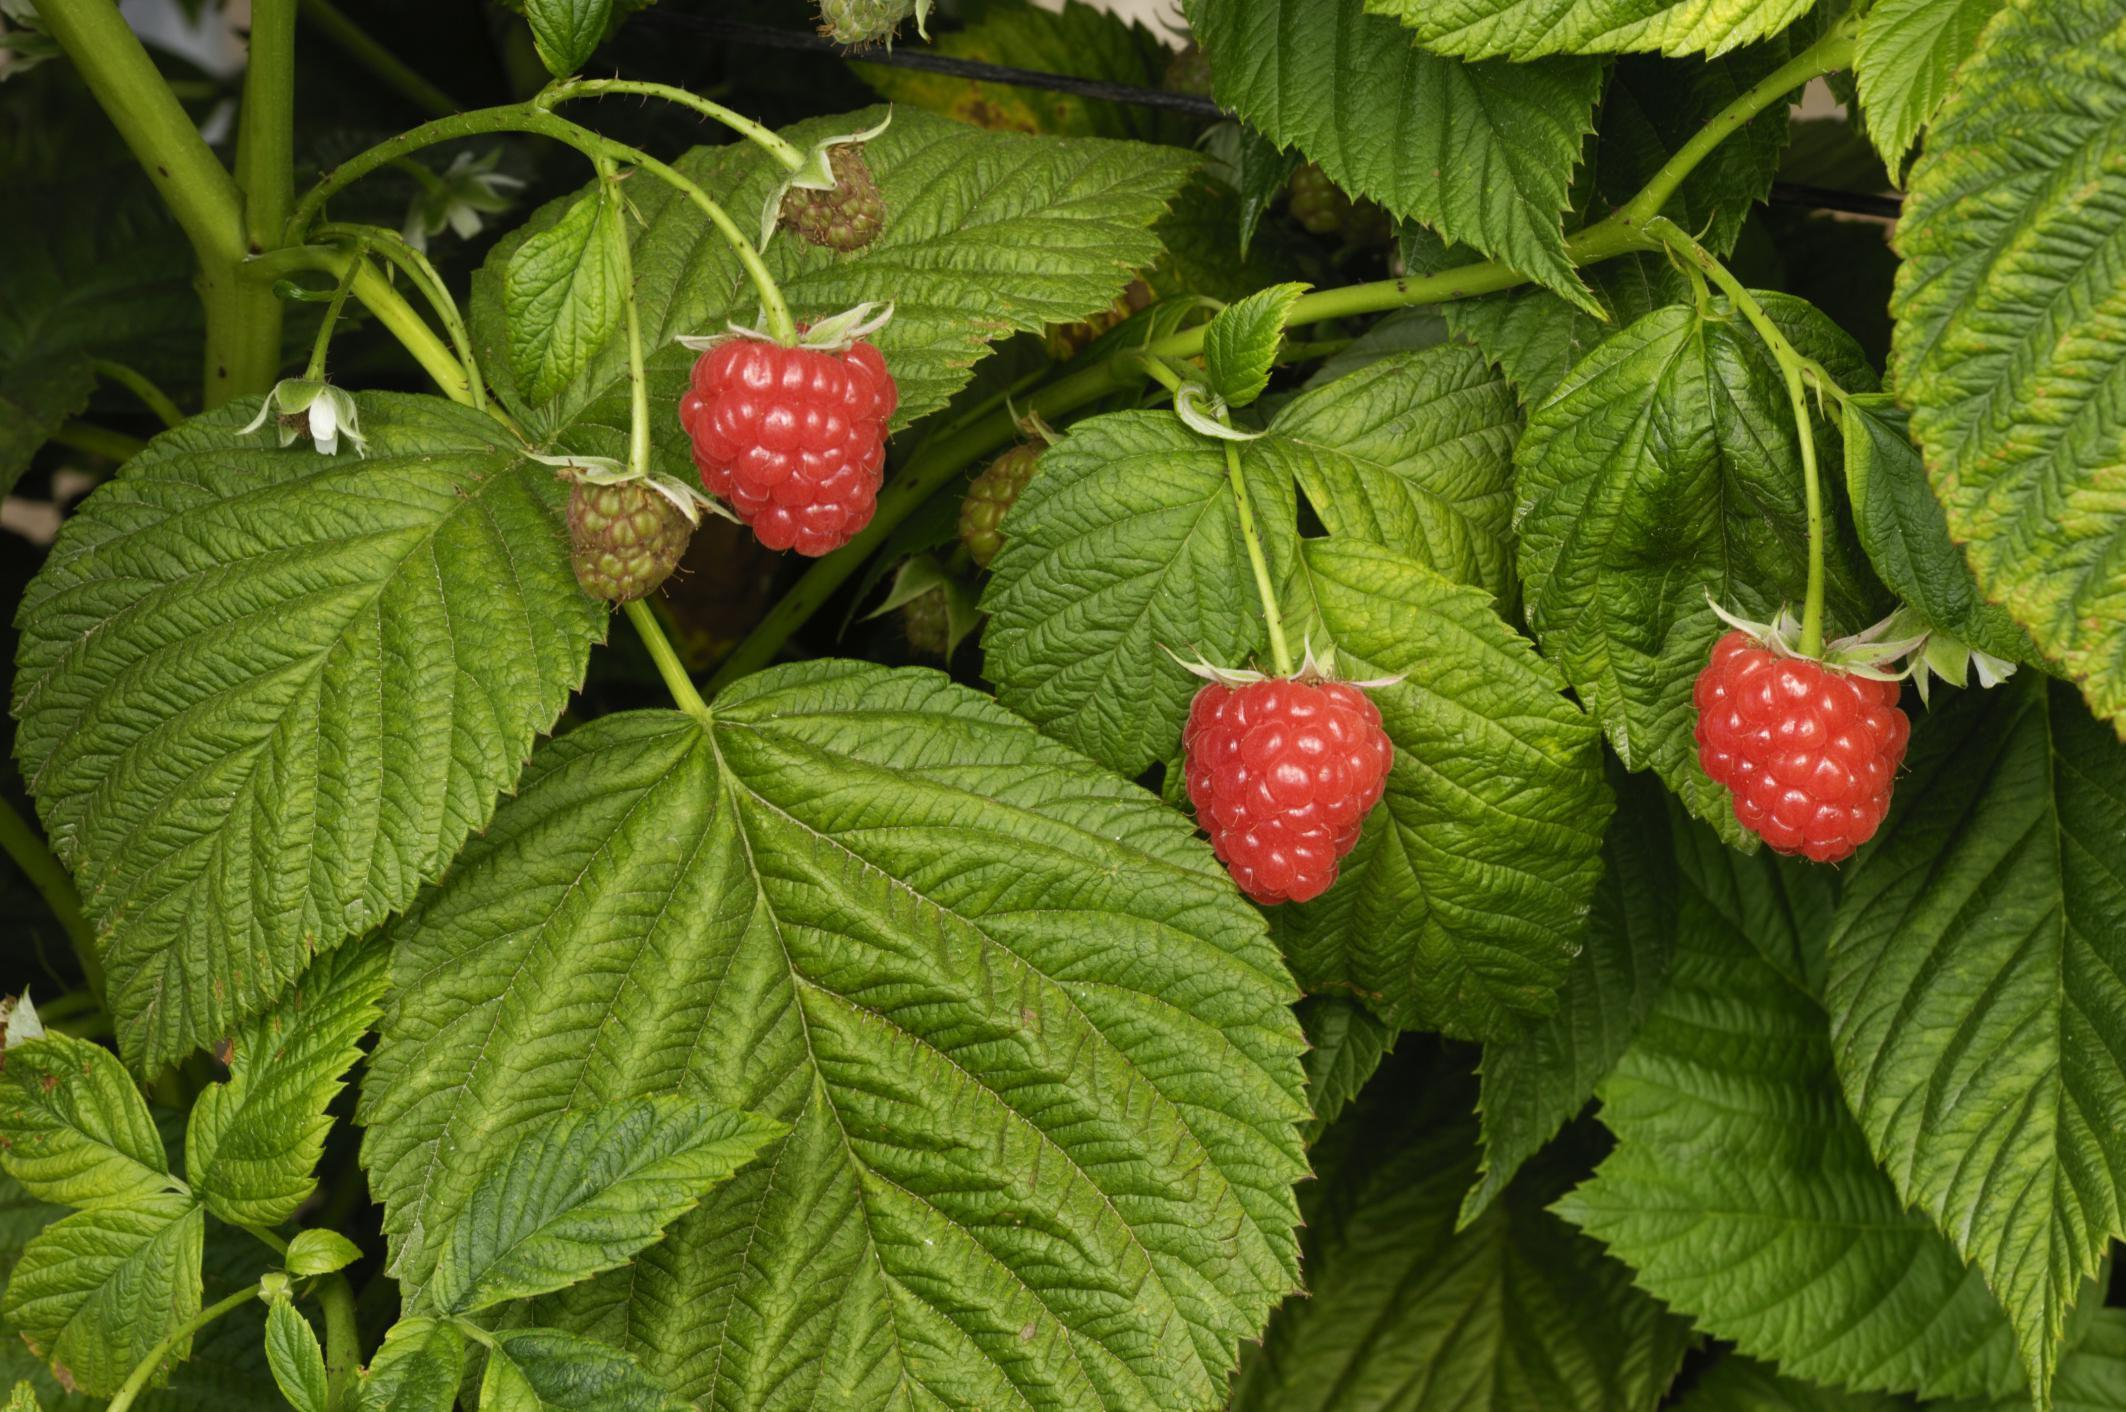Raspberry leaf: (356, 634, 1310, 1412)
